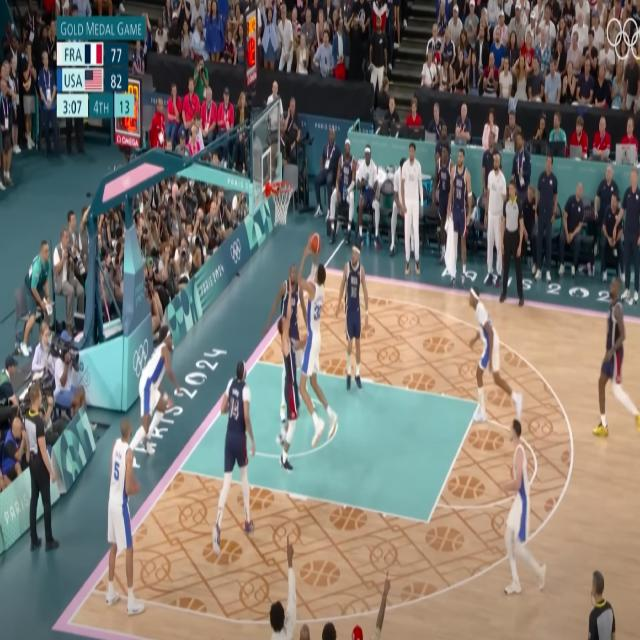basketball: (310, 233, 320, 253)
hoop: (272, 182, 293, 226)
